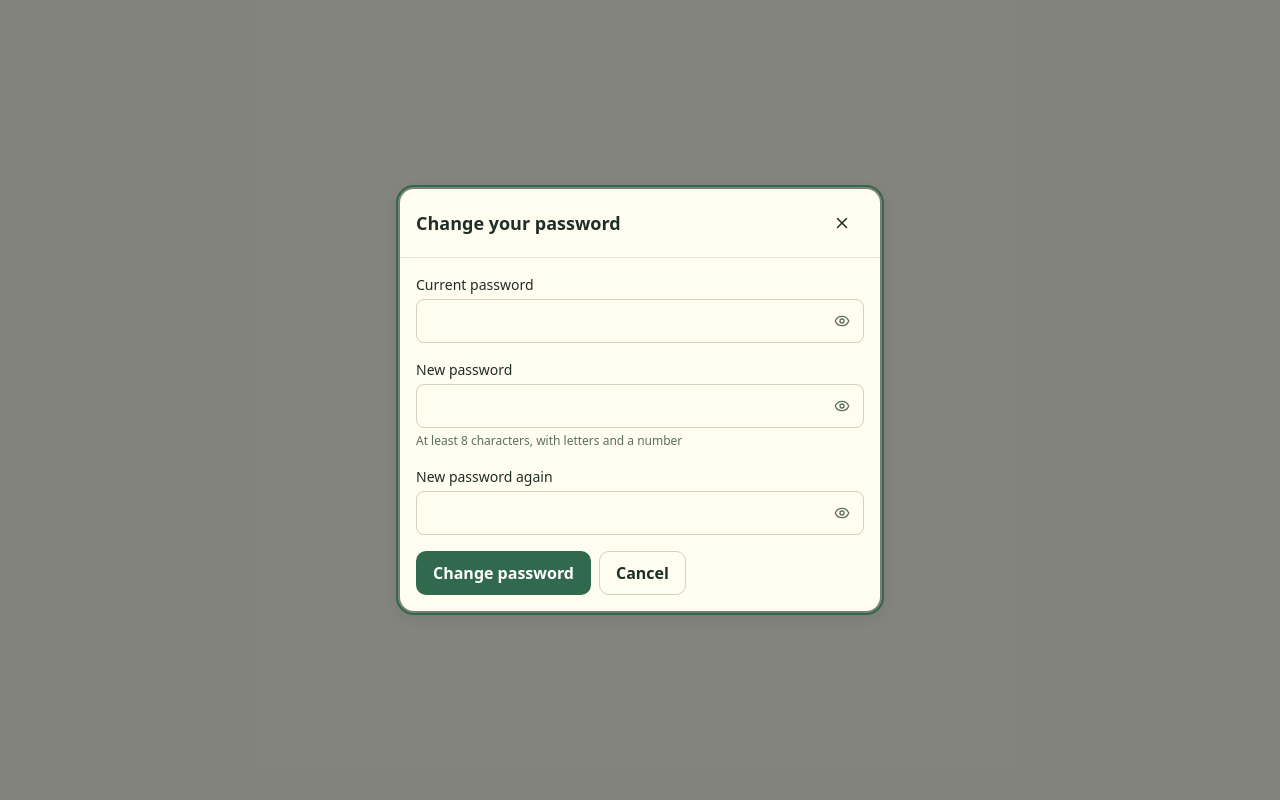
ChangePasswordDialog › refuses a weak new password with the reason, before sending
Type "rightpass1" into the password field labelled "Current password" at (640,321), box 416,299 -> 864,343
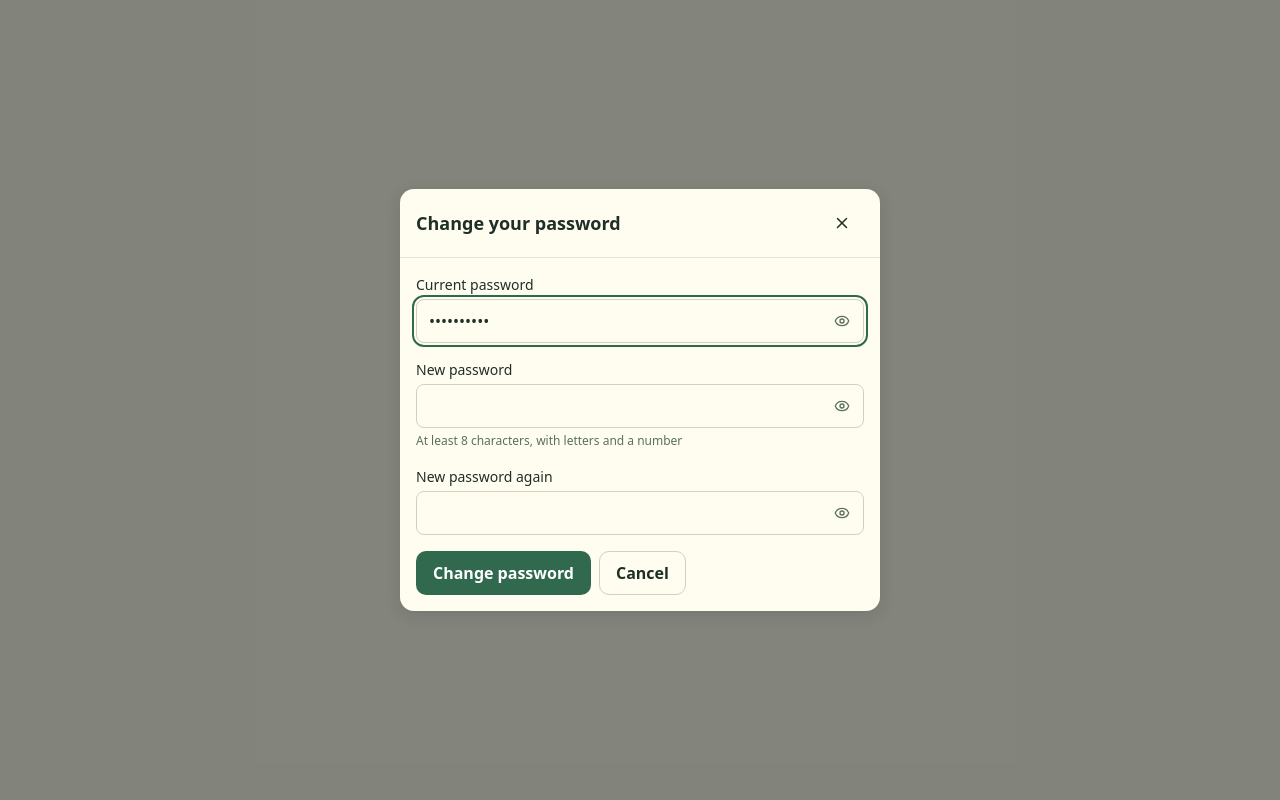
Type "short1" into the password field labelled "New password" at (640,406), box 416,384 -> 864,428
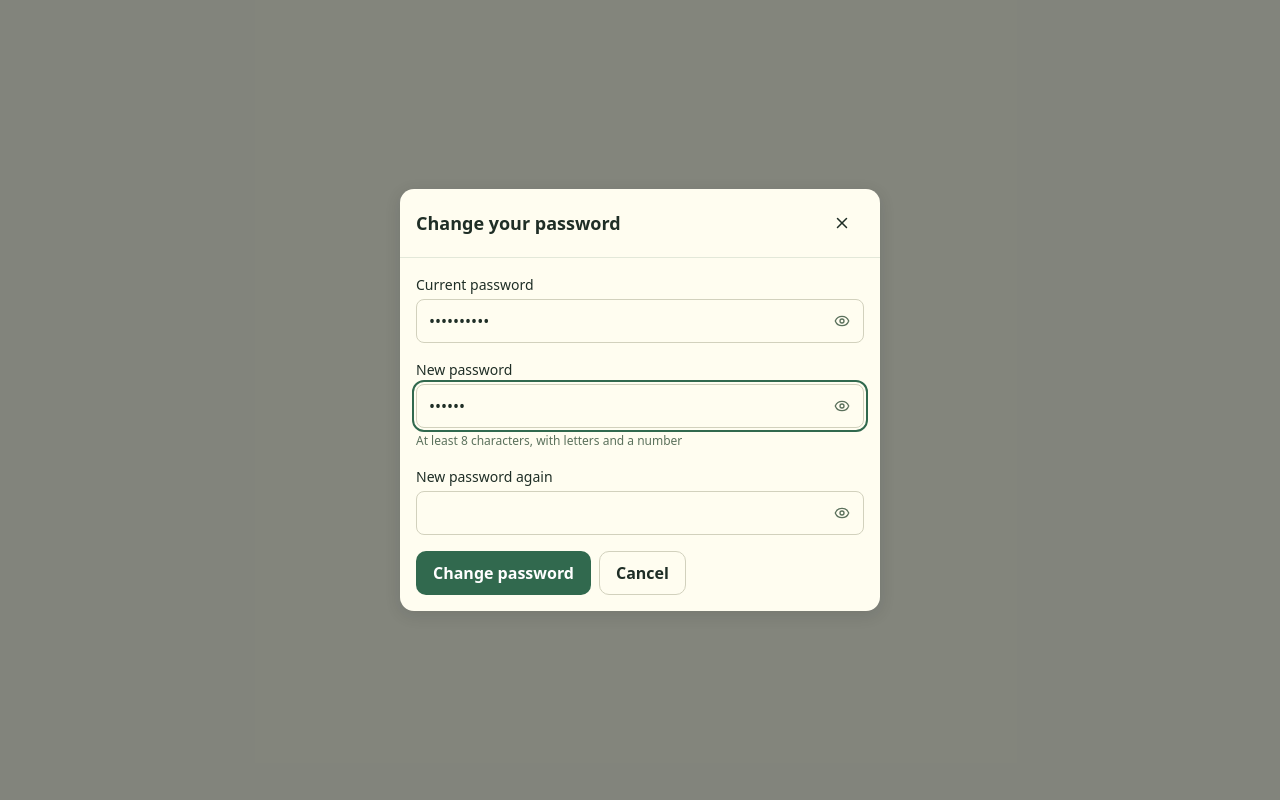
Type "short1" into the password field labelled "New password again" at (640,513), box 416,491 -> 864,535
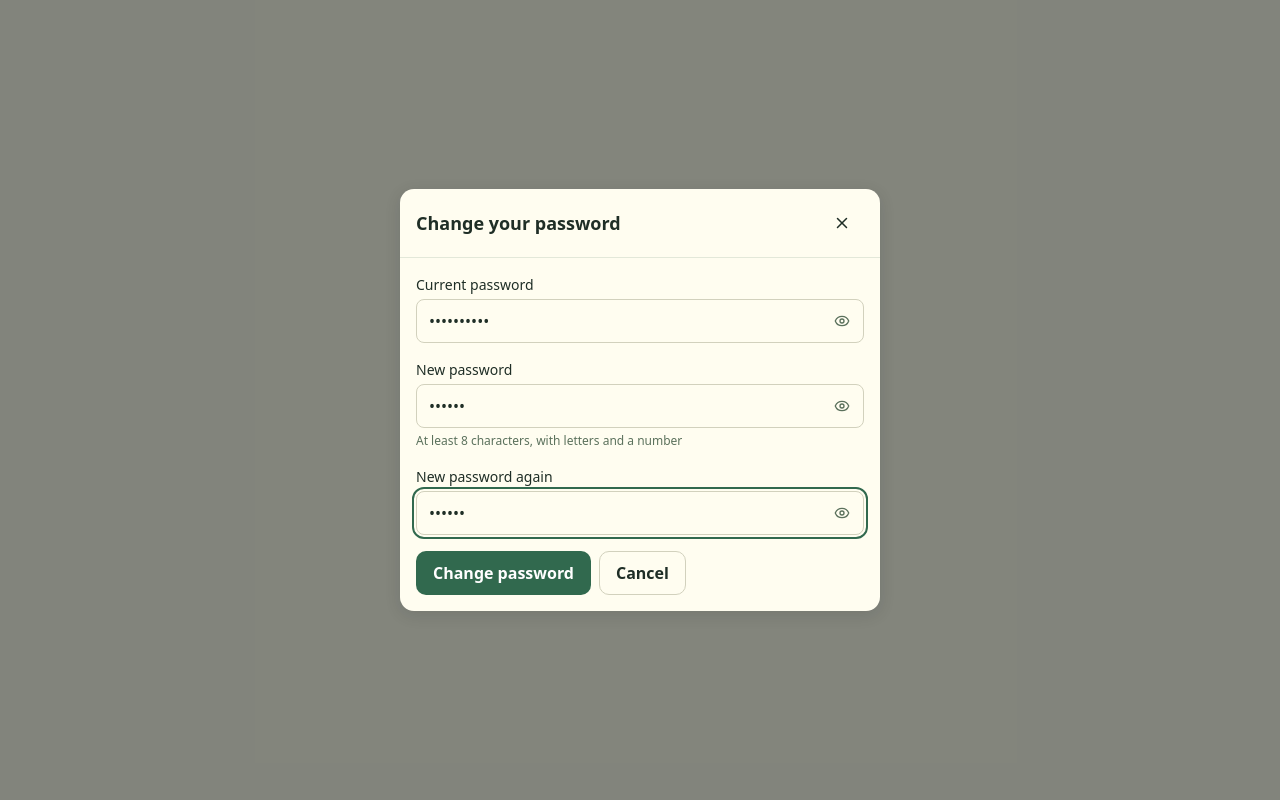
Click the button "Change password" at (504,573), box 416,551 -> 591,595
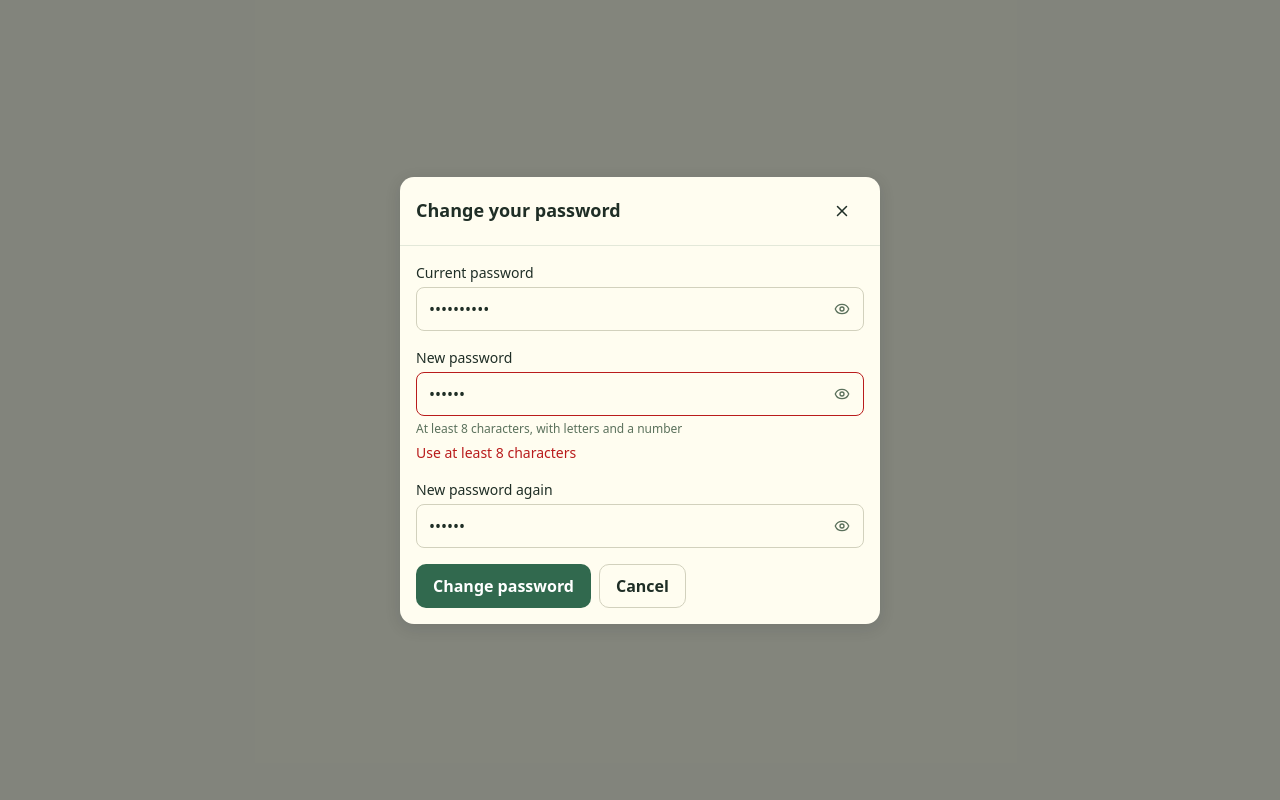
Expected: the text "Use at least 8 characters" is shown, 416,442 -> 576,462
